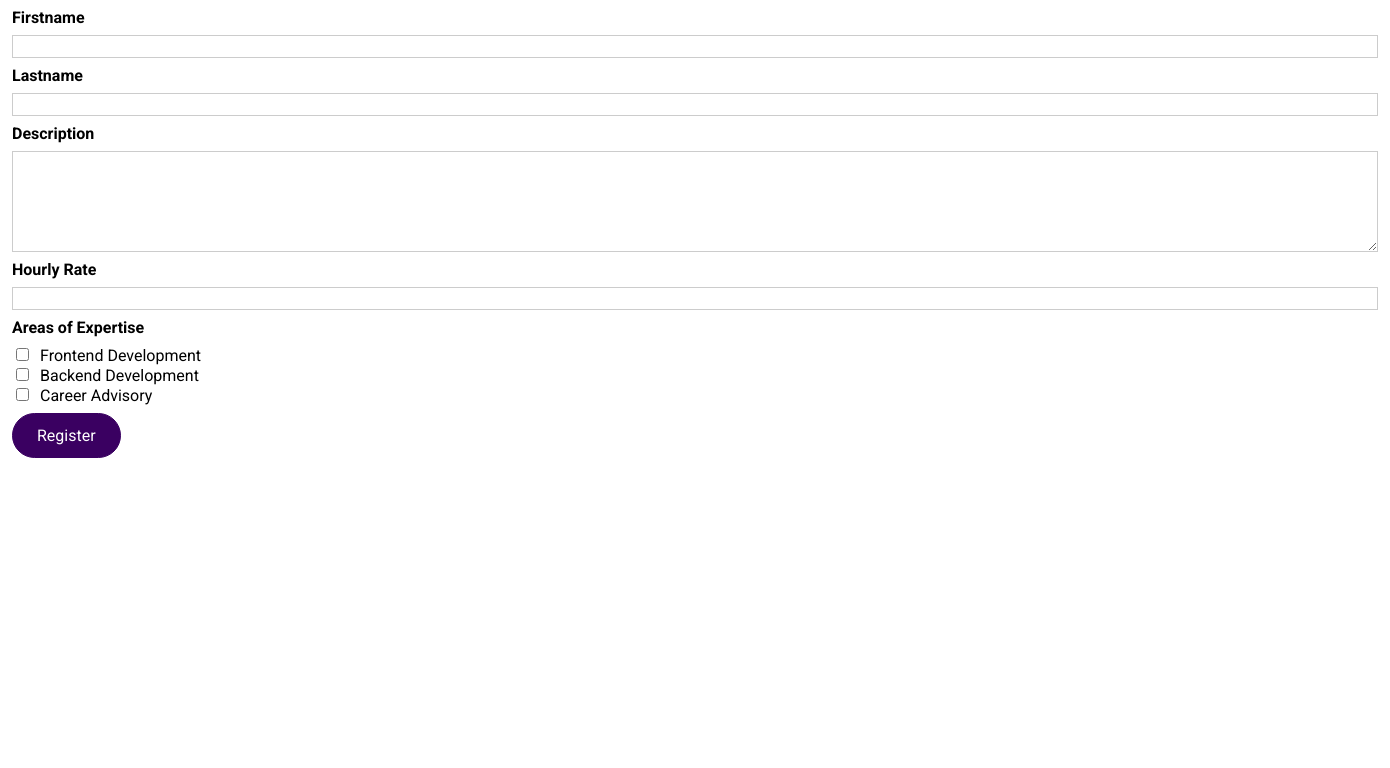
Test: Coach Form Page › Checking inputs › displays registration fail message when input field is empty
The width and height of the screenshot is (1390, 768).
Type "I am frontend developer" into the text box labelled "Description" at [695, 202], box [12,151,1378,252]
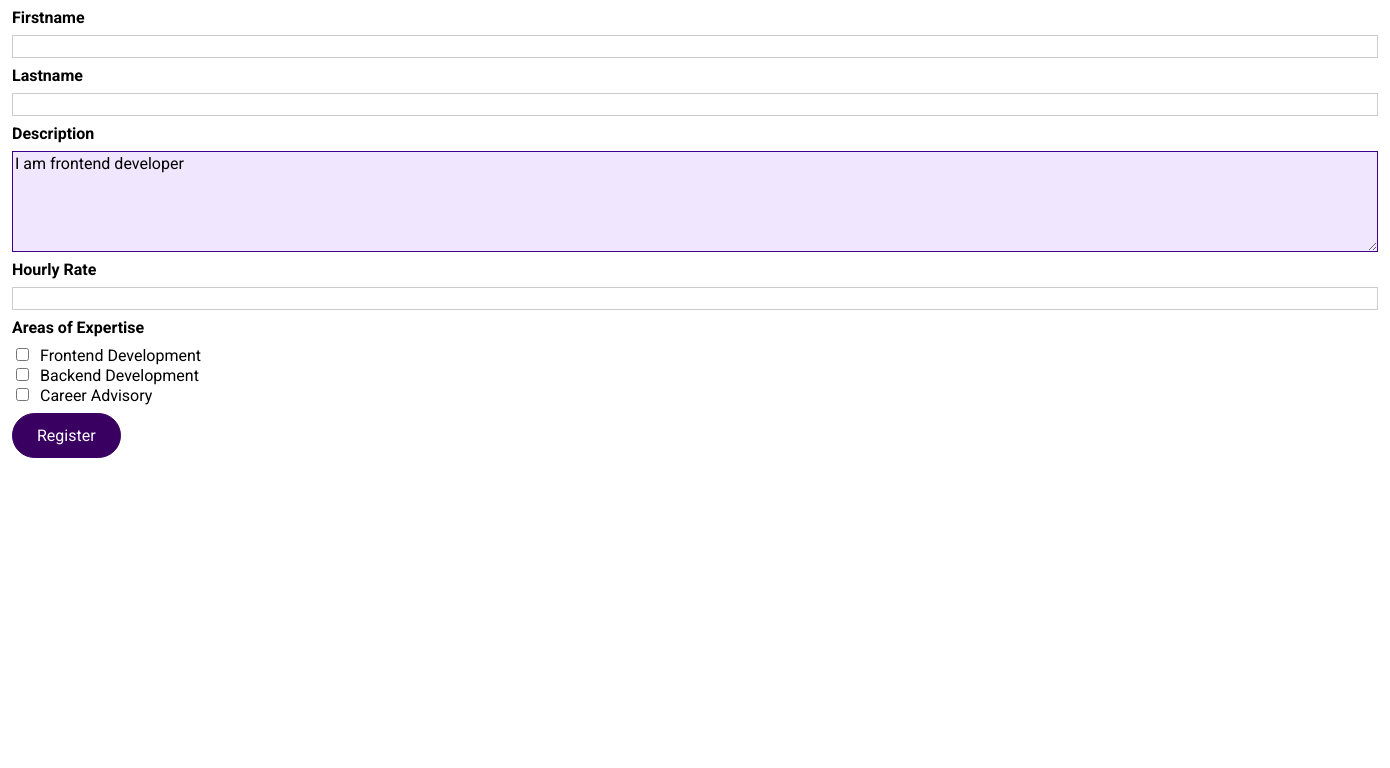
Click the button "Register" at [66, 436], box [12,413,121,458]
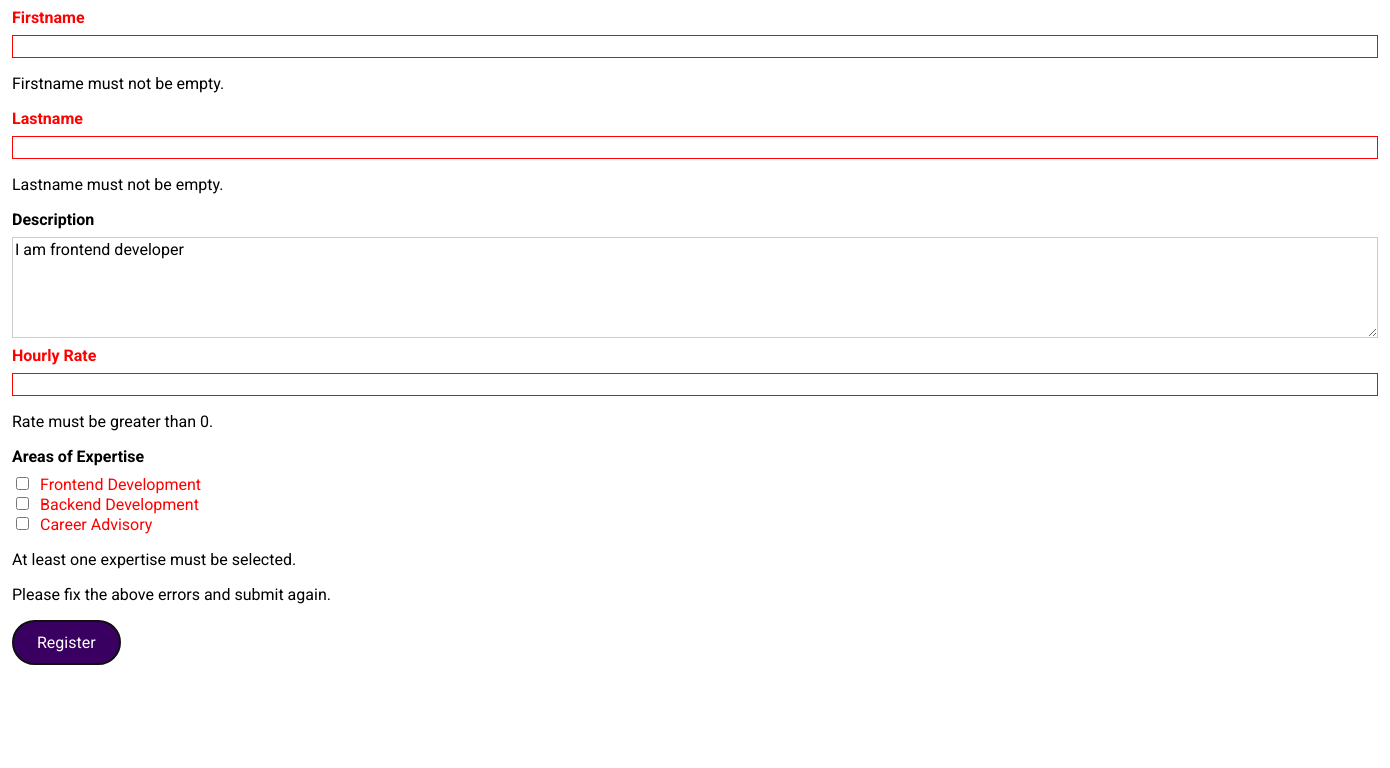
Expected: the text "Firstname must not be empty." is shown, [12,74,224,93]
Expected: the text "Lastname must not be empty." is shown, [12,175,223,194]
Expected: the text "Please fix the above errors and submit again." is shown, [12,585,331,604]
